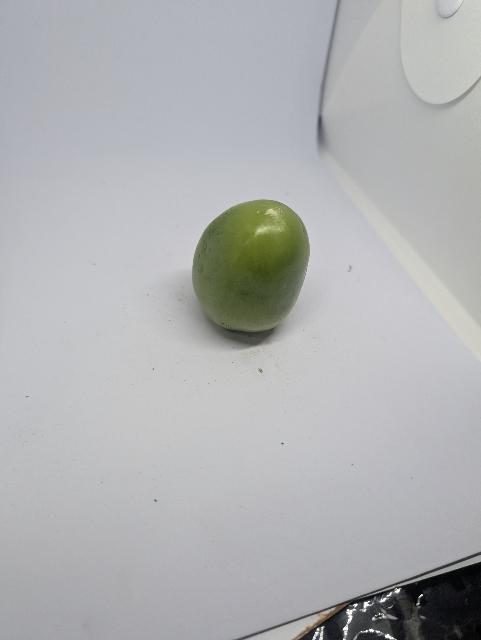green: (178, 180, 320, 344)
